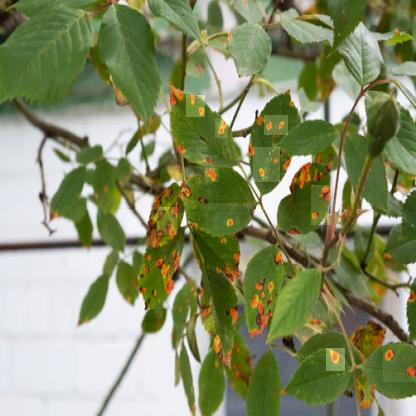black-spot: (247, 269, 275, 314), (383, 344, 416, 382), (253, 147, 280, 182), (311, 185, 332, 225), (157, 207, 177, 235), (264, 115, 288, 135), (215, 212, 239, 231), (326, 348, 345, 371), (186, 96, 205, 118), (215, 118, 228, 138), (205, 168, 219, 182)
